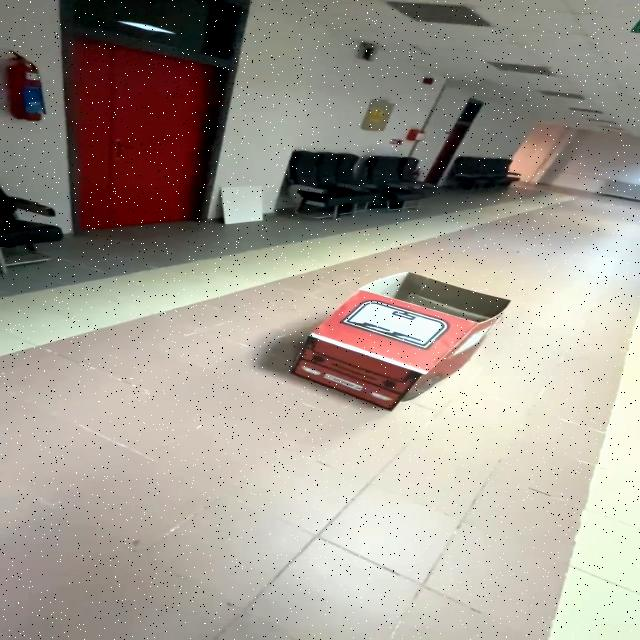red_car: (275, 262, 519, 423)
